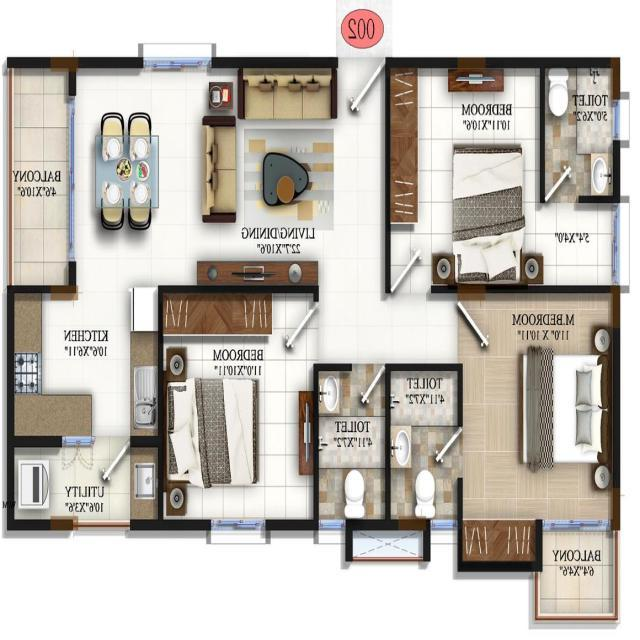Balcony-Sitout: (8, 58, 72, 292), (543, 524, 619, 619)
Bedroom: (162, 294, 315, 524)
Bedroom with Toilet: (387, 285, 619, 524), (388, 62, 617, 290)
Dining: (92, 108, 161, 241)
Enterance-Foyer: (335, 58, 385, 128)
Kitchen: (13, 298, 160, 442)
Living: (202, 61, 384, 292)
Toilet: (392, 366, 462, 521), (317, 366, 387, 516), (544, 66, 615, 202)
Utility: (12, 445, 160, 520)
